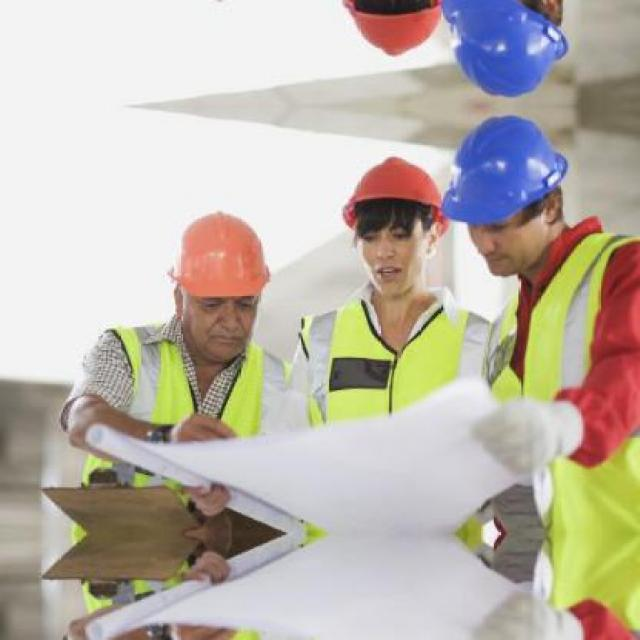Reflective-Jacket: (483, 230, 637, 503), (71, 318, 280, 487), (291, 290, 478, 435)
Safety-Helmet: (438, 109, 580, 233), (157, 204, 280, 312), (331, 150, 452, 238)
